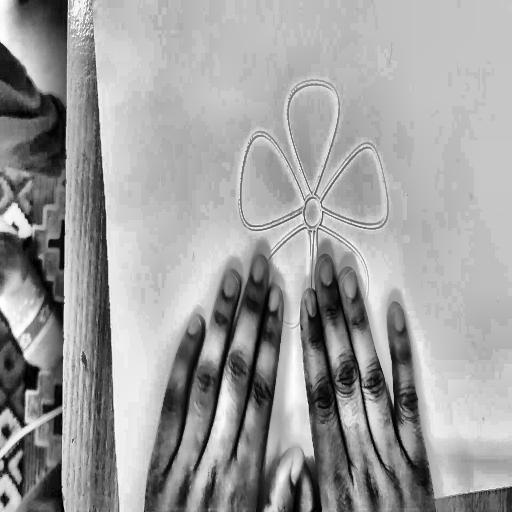flower: (223, 58, 417, 496)
